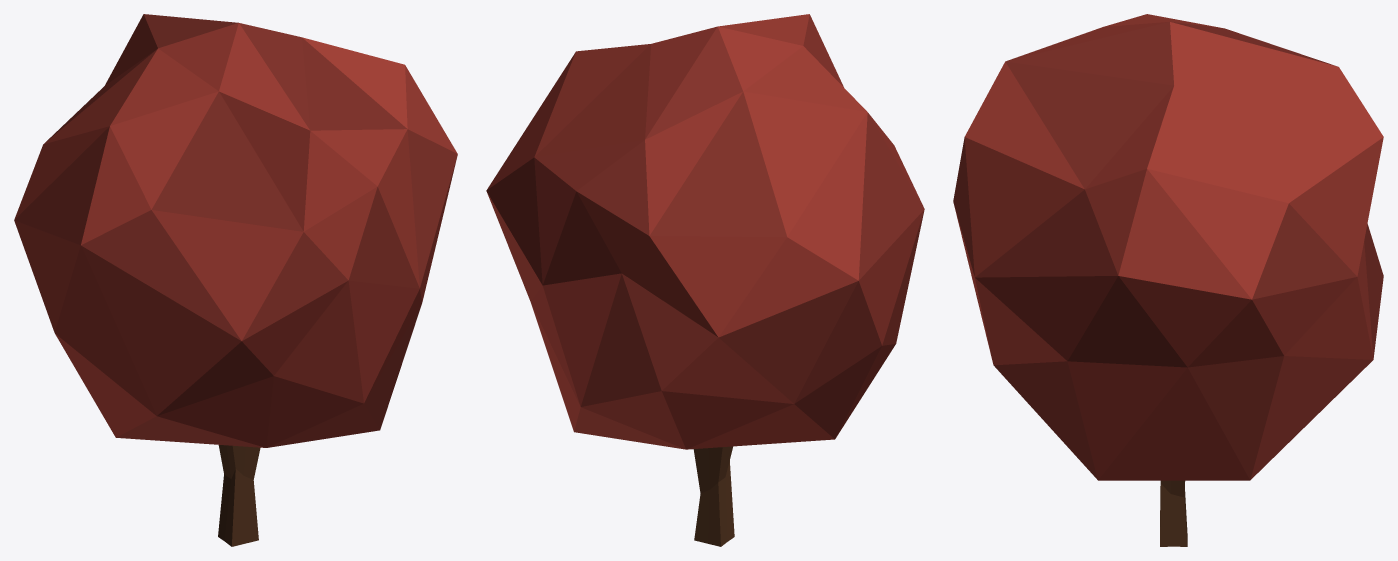
The model's file is Tree_9_Red.fbx.
The picture shows the model from 3 angles, left to right: view 1: azimuth 30°, elevation 25°; view 2: azimuth 150°, elevation 25°; view 3: azimuth 270°, elevation 25°; orthographic projection.
Parts seen in each view (by area): view 1: Tree_9_Red_Part_1, Tree_9_Red_Part_2; view 2: Tree_9_Red_Part_1, Tree_9_Red_Part_2; view 3: Tree_9_Red_Part_1, Tree_9_Red_Part_2.
Part boxes in pixels (x1=…): Tree_9_Red_Part_1: x1=14, y1=14, x2=457, y2=447; Tree_9_Red_Part_2: x1=218, y1=445, x2=260, y2=546; Tree_9_Red_Part_1: x1=486, y1=14, x2=924, y2=449; Tree_9_Red_Part_2: x1=693, y1=446, x2=734, y2=546; Tree_9_Red_Part_1: x1=953, y1=14, x2=1383, y2=480; Tree_9_Red_Part_2: x1=1160, y1=480, x2=1187, y2=546.
Bounding box in the file's own units: 583 × 765 × 576.
